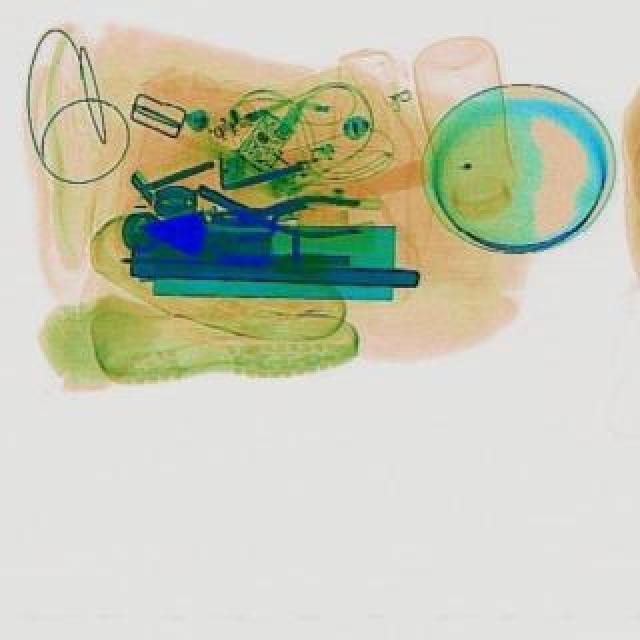wrench: (210, 192, 358, 238)
